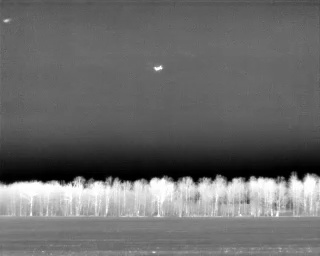DRONE: (151, 61, 166, 75)
